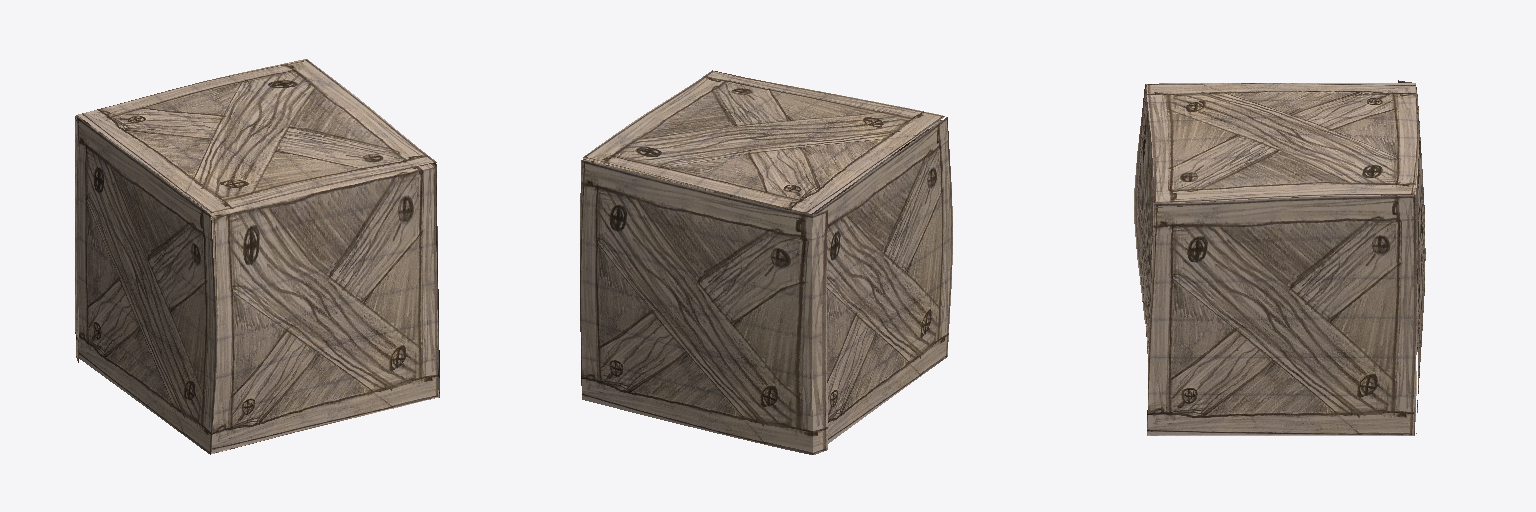
The picture shows the model from 3 angles: view 1: azimuth 30°, elevation 25°; view 2: azimuth 150°, elevation 25°; view 3: azimuth 270°, elevation 25°; orthographic projection.
Visible parts, largest first — view 1: box; view 2: box; view 3: box.
Part boxes in pixels (bbox=[...]): box: bbox=[75, 59, 439, 454]; box: bbox=[580, 70, 952, 454]; box: bbox=[1134, 80, 1425, 435].
Size of the model in its own units: 0.984 by 0.9754 by 1.05.
Materials: 1 (1 with a texture image).